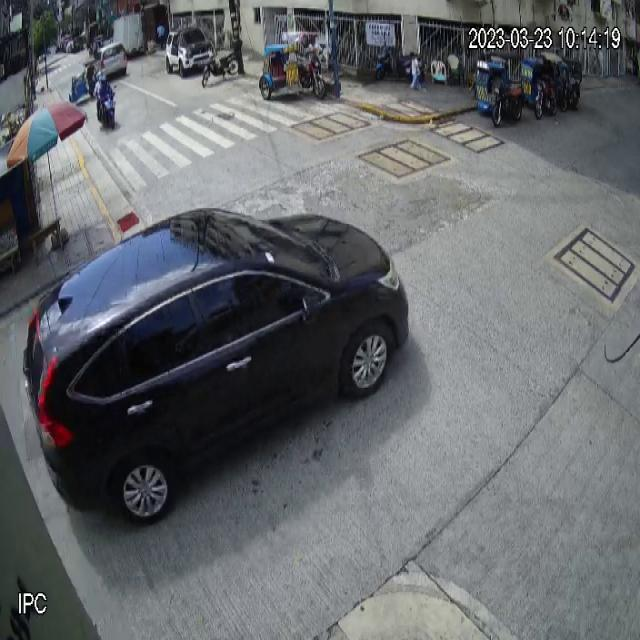Car: (22, 206, 408, 530)
Tricycle: (259, 31, 327, 100), (474, 51, 524, 127)
